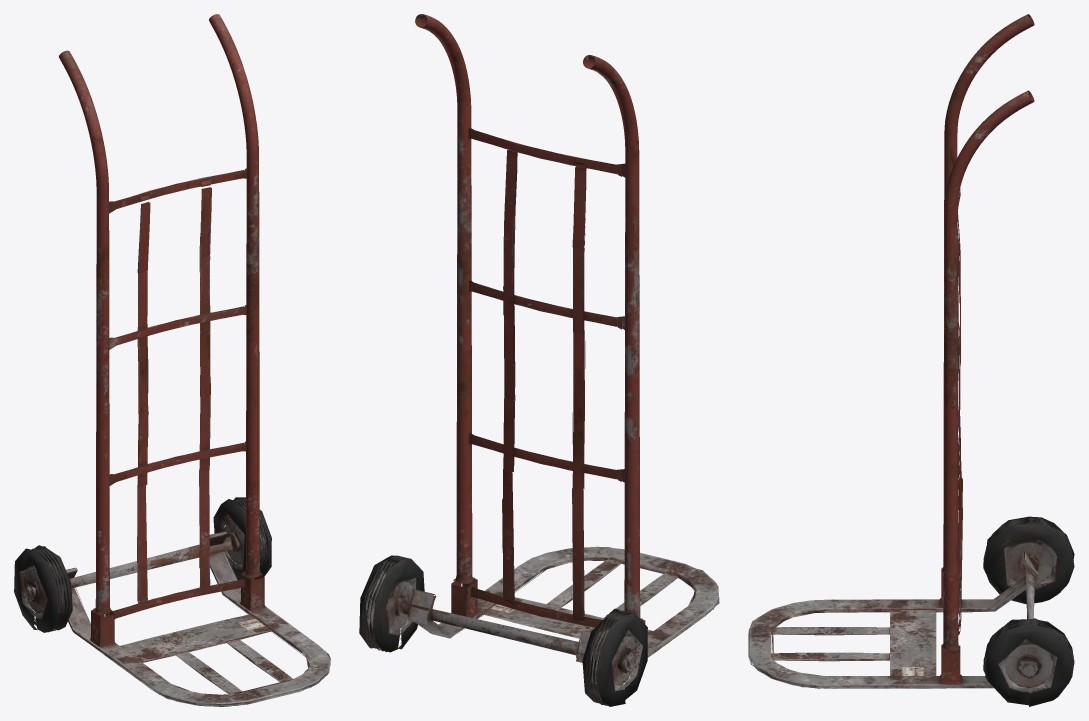
File: ph_hand_truck.glb
The picture shows the model from 3 angles, left to right: view 1: azimuth 30°, elevation 25°; view 2: azimuth 150°, elevation 25°; view 3: azimuth 270°, elevation 25°; orthographic projection. The views are drawn at different scales.
Visible parts, largest first — view 1: hand_truck; view 2: hand_truck; view 3: hand_truck.
Part boxes in pixels (left/top/right/bottom): hand_truck: left=14, top=14, right=330, bottom=706; hand_truck: left=359, top=14, right=719, bottom=706; hand_truck: left=748, top=14, right=1074, bottom=706.
Bounding box in the file's own units: 0.5933 × 1.4 × 0.6933.
1 material, 1 textured.
